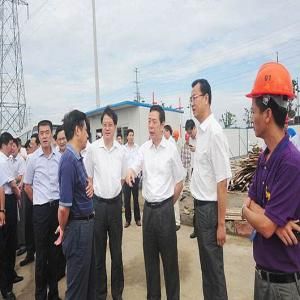none: (189, 78, 215, 122), (66, 108, 90, 152), (148, 103, 166, 142), (101, 107, 117, 142), (37, 119, 54, 151), (2, 129, 15, 162), (56, 126, 68, 152), (31, 133, 40, 155), (163, 124, 174, 142), (127, 128, 136, 145)
yellow: (249, 59, 293, 147)
